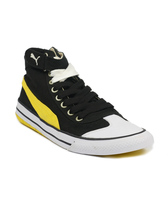shoes: (14, 40, 157, 162)
